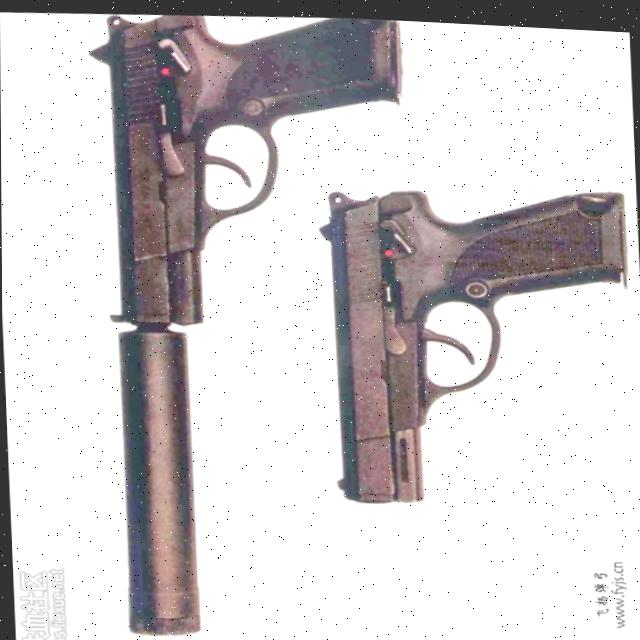pistol: (78, 3, 428, 640), (320, 169, 640, 515)
